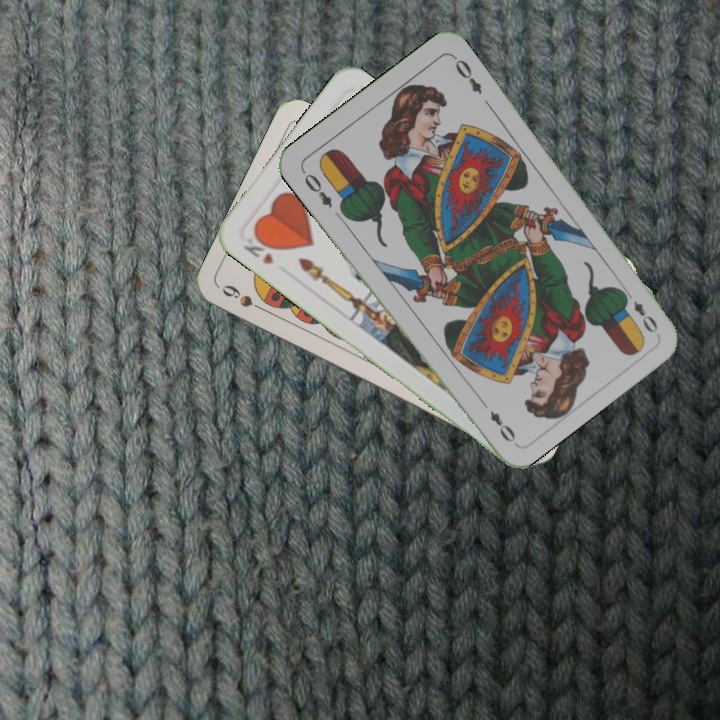EO: (619, 285, 661, 336), (297, 166, 335, 211)
HK: (239, 230, 280, 267)
S9: (218, 280, 272, 316)
